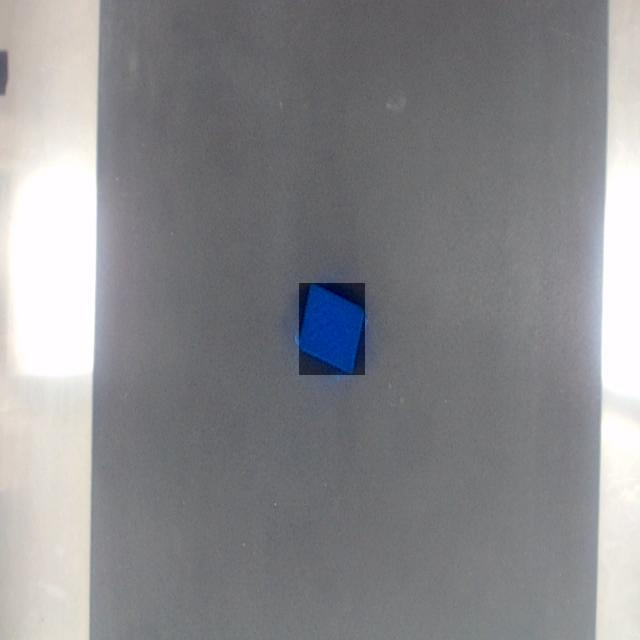Azul: (299, 284, 365, 375)
